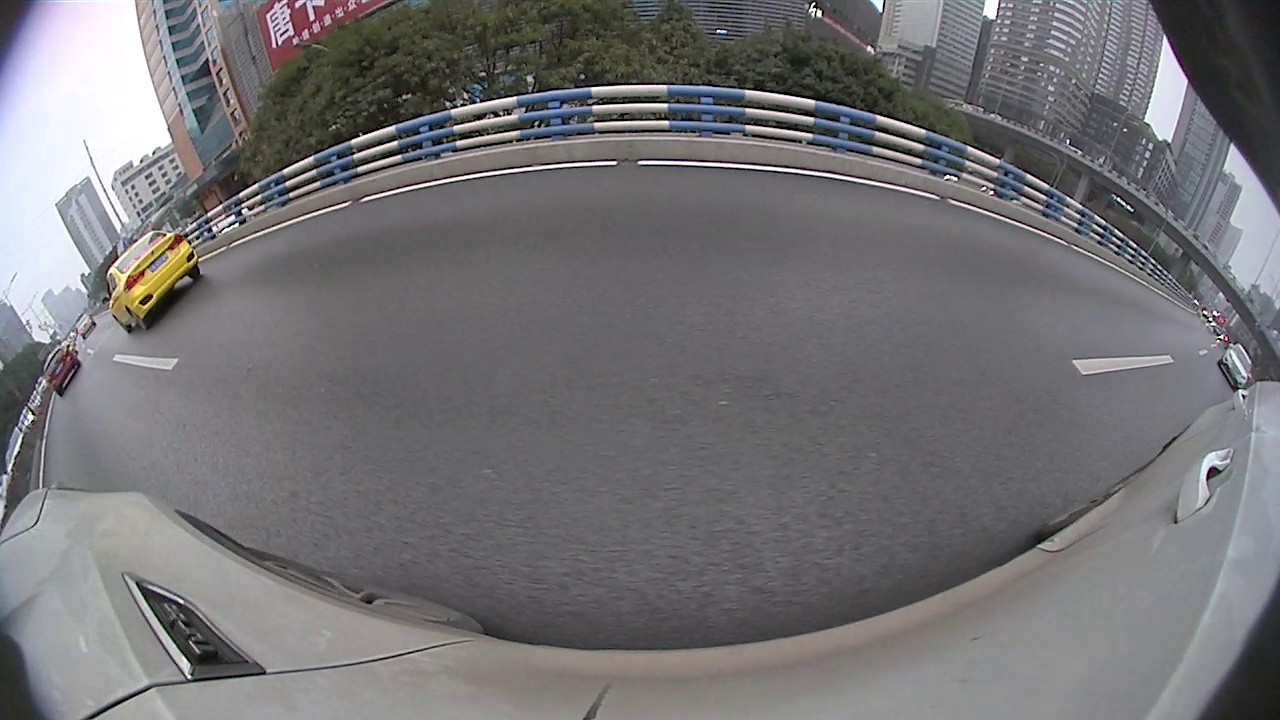car: (103, 230, 204, 335), (42, 342, 84, 395), (1218, 340, 1254, 392)
front: (114, 316, 131, 332)
rear: (128, 307, 146, 329)
